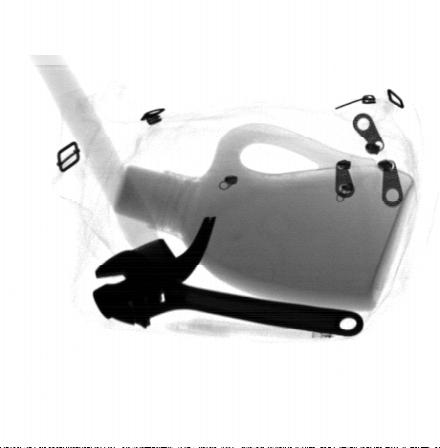Hammer: (21, 32, 218, 320)
Wrench: (91, 250, 363, 340)
